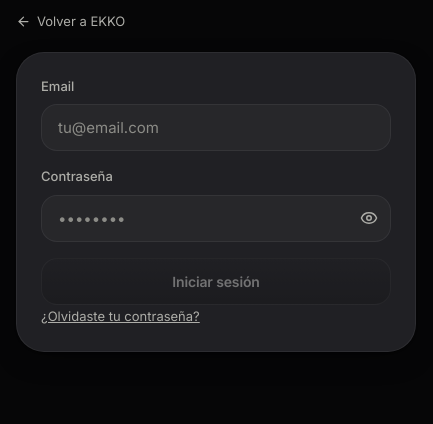
Login › …pero un RECEPCIONISTA cancelado o revocado NO entra al panel
In the field labelled "Email": (216, 128) [41,104,391,151], type "a@e.mx"
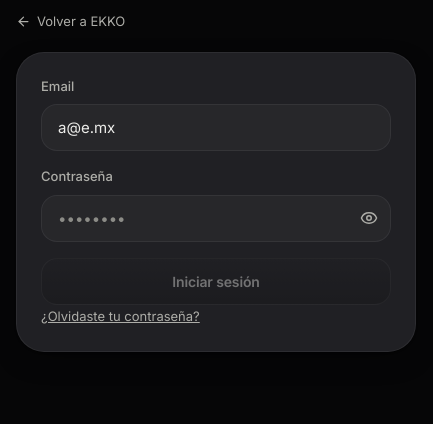
In the password field labelled "Contraseña": (216, 218) [41,194,391,242], type "secreto123"
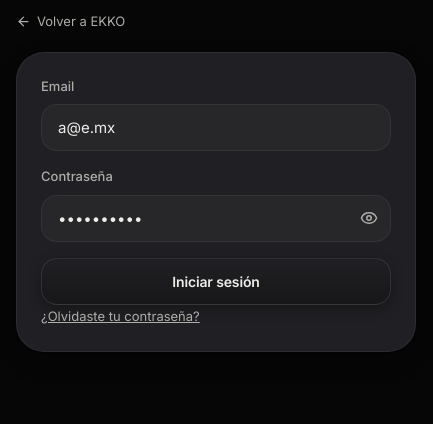
Click the button "Iniciar sesión": (216, 281) [41,258,391,304]
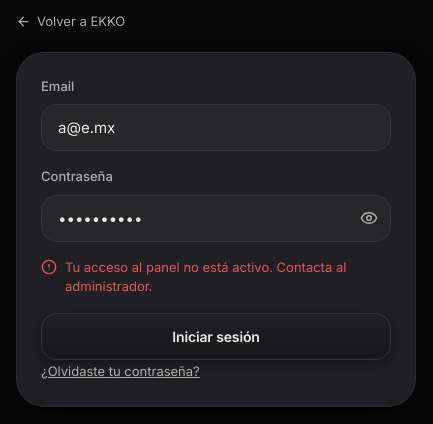
Now the text "acceso al panel no está activo" is shown, box [65,258,346,294]
